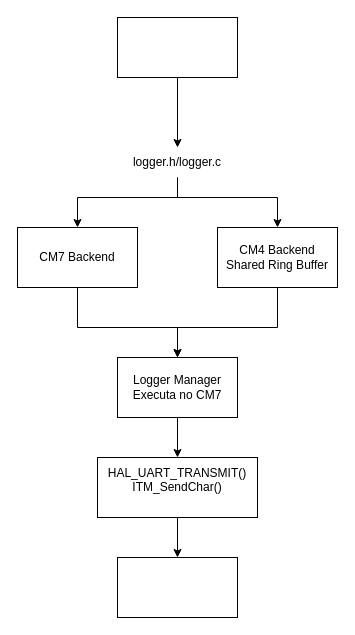
Image size: 355x635. Some labels were removed from this diagram. The shapes that lost their labels are listed below. From the top down, each one's box as (x1, y1, x2, y2) in pixels, then its label:
(116, 16, 238, 78): Aplicação LOG_INFO("...")
(116, 556, 238, 618): USART3
